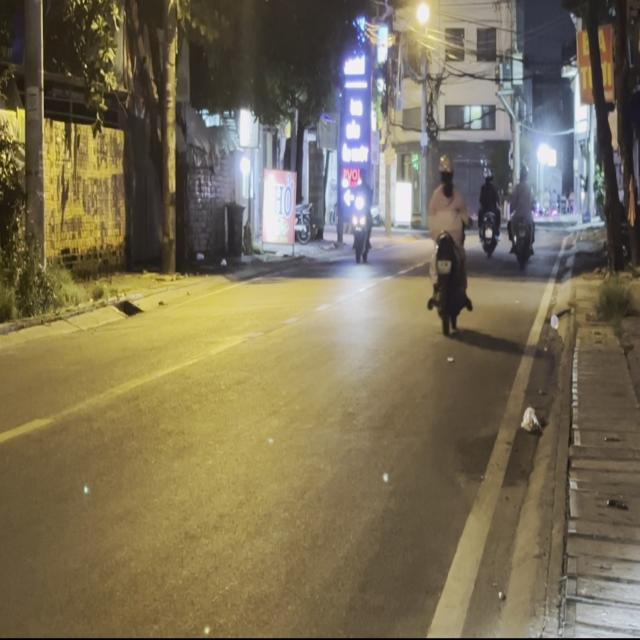helmet: (437, 153, 453, 183)
licenseplate: (424, 152, 472, 334)
nohelmet: (437, 258, 450, 272)
